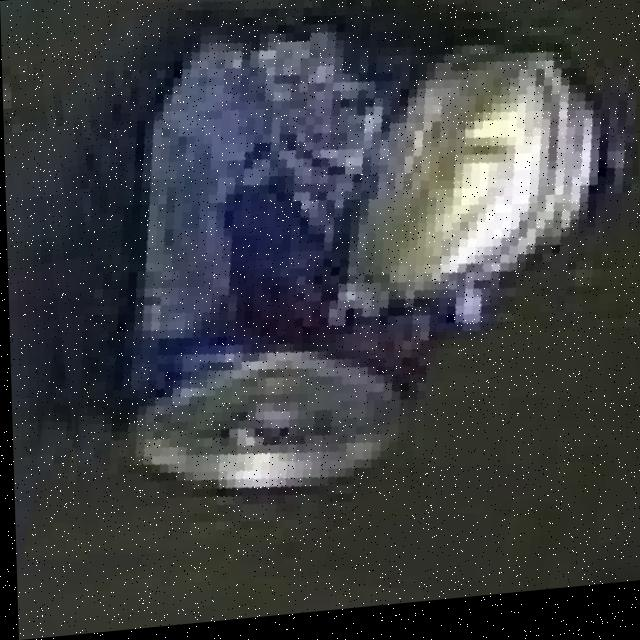can: (66, 0, 638, 559)
